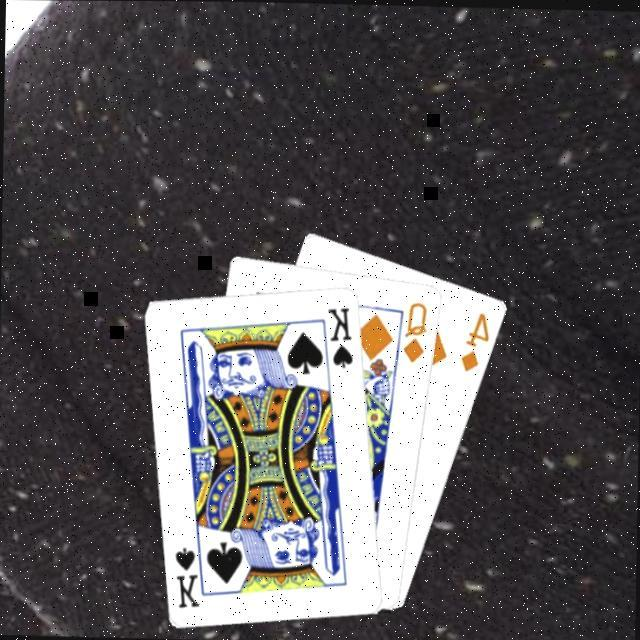4D: (456, 305, 492, 372)
KS: (170, 534, 208, 608), (324, 300, 356, 368)
QD: (398, 294, 430, 363)
